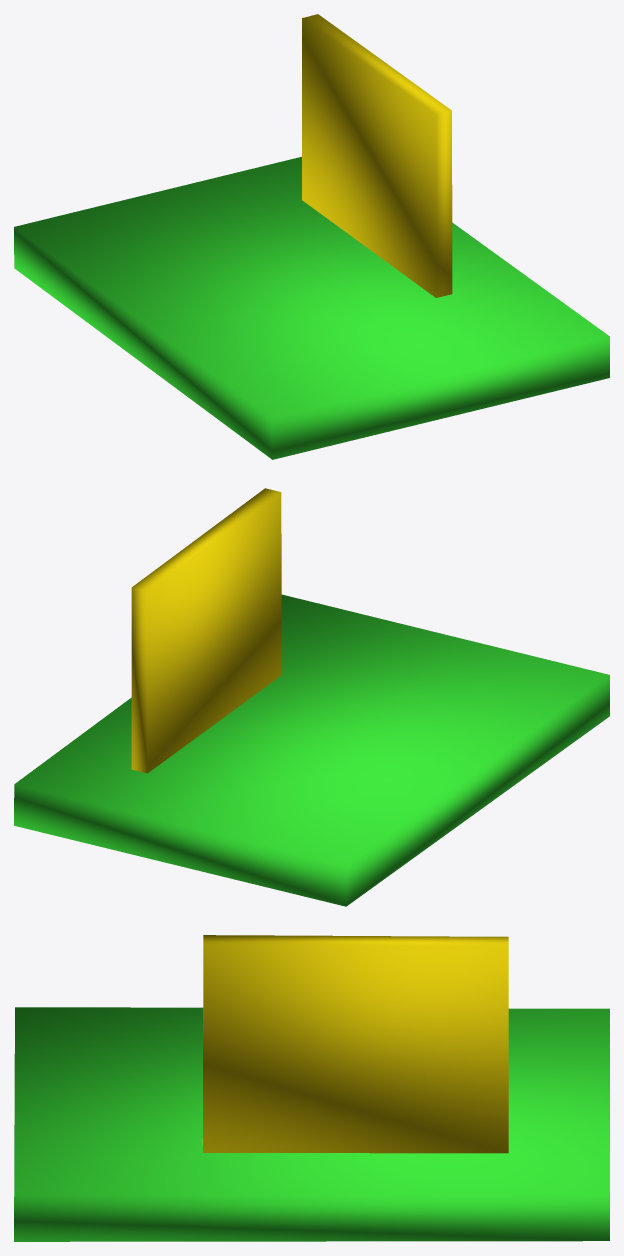
Rendered from stair path.fbx.
3 renders of one model, top to bottom at view 1: azimuth 30°, elevation 25°; view 2: azimuth 150°, elevation 25°; view 3: azimuth 270°, elevation 25°, orthographic. The views are drawn at different scales.
Parts seen in each view (by area): view 1: NurbsPath.009, NurbsPath.010; view 2: NurbsPath.009, NurbsPath.010; view 3: NurbsPath.009, NurbsPath.010.
Part boxes in pixels (x1,y1,x2,y2): NurbsPath.009: [14, 156, 609, 459]; NurbsPath.010: [302, 14, 452, 297]; NurbsPath.009: [14, 594, 609, 906]; NurbsPath.010: [131, 488, 281, 773]; NurbsPath.009: [14, 1007, 609, 1241]; NurbsPath.010: [202, 935, 508, 1153].
Size of the model in its own units: 404 by 258 by 543.
